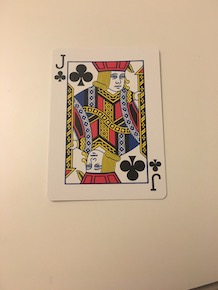JackOfClubs: (45, 43, 171, 206)
